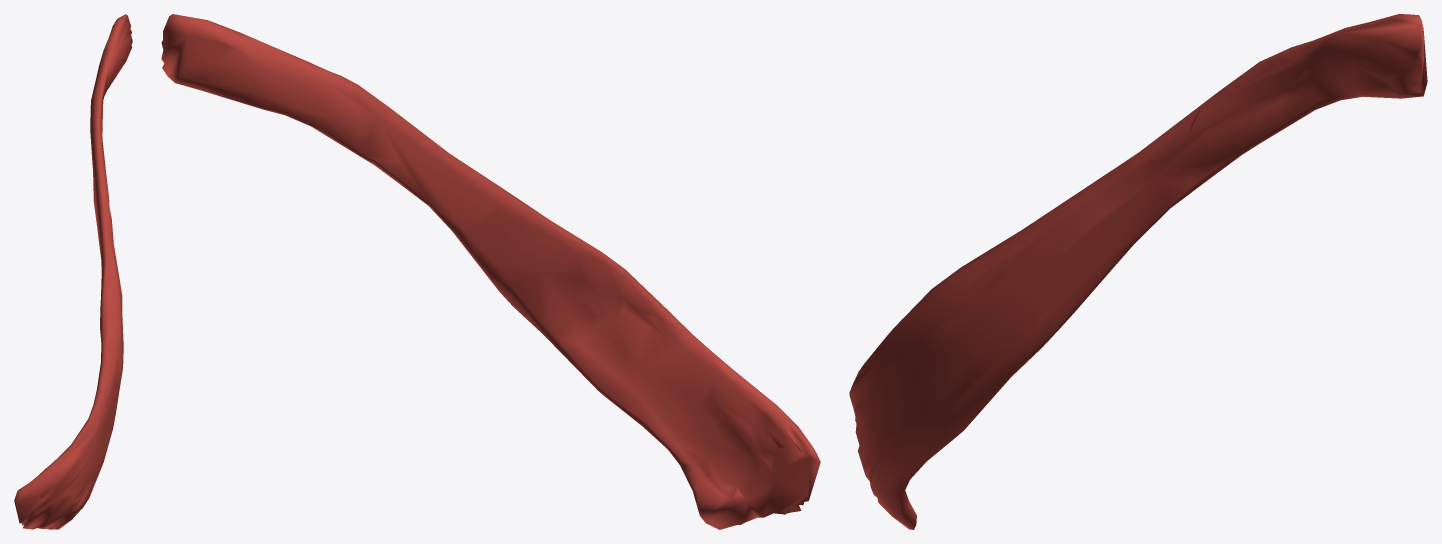
The model's file is musculos-abdominal-part-of-pectoralis-major-muscle-l.glb.
3 views of the same model, side by side, from view 1: azimuth 30°, elevation 25°; view 2: azimuth 150°, elevation 25°; view 3: azimuth 270°, elevation 25° (orthographic). The views are drawn at different scales.
Parts seen in each view (by area): view 1: (Abdominal part of pectoralis major muscle).l; view 2: (Abdominal part of pectoralis major muscle).l; view 3: (Abdominal part of pectoralis major muscle).l.
Part boxes in pixels (bbox=[...]): (Abdominal part of pectoralis major muscle).l: bbox=[14, 14, 132, 529]; (Abdominal part of pectoralis major muscle).l: bbox=[161, 14, 820, 529]; (Abdominal part of pectoralis major muscle).l: bbox=[849, 14, 1427, 529].
Bounding box in the file's own units: 0.1321 × 0.1769 × 0.133.
